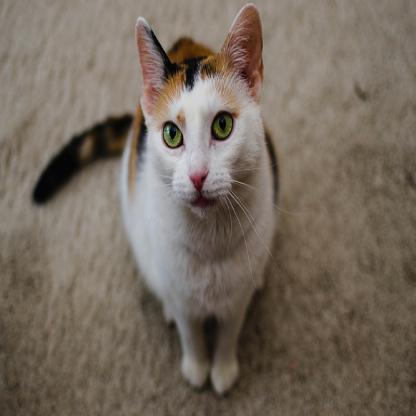cat: (33, 4, 278, 394)
